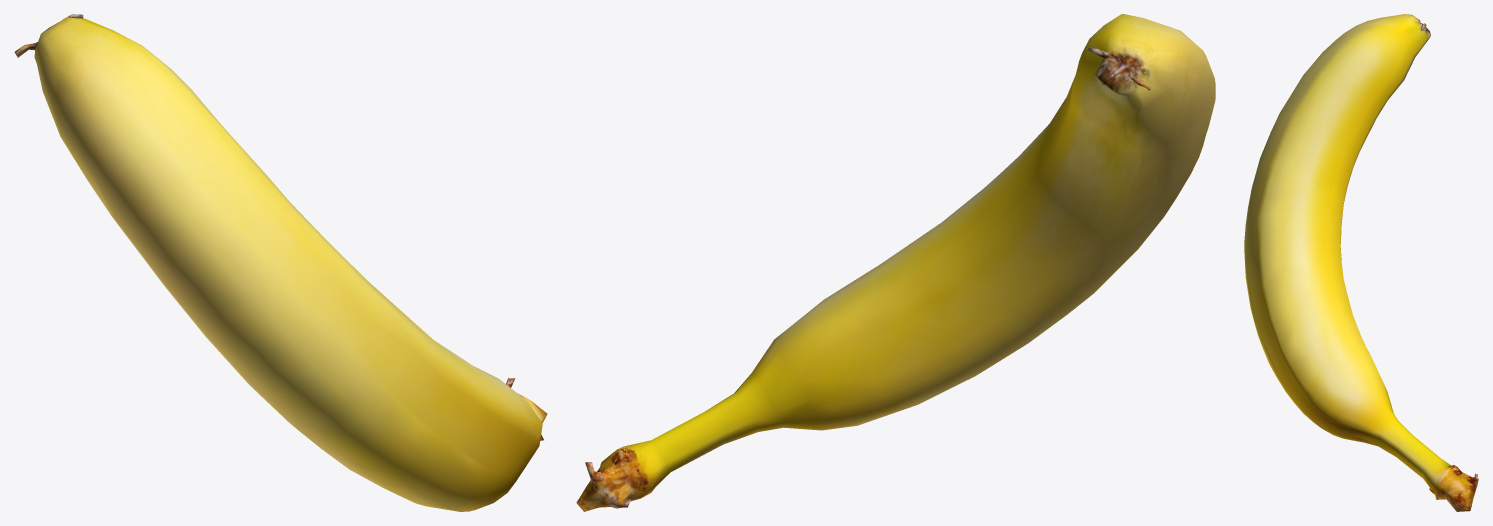
The model's file is banana.glb.
The picture shows the model from 3 angles, left to right: view 1: azimuth 30°, elevation 25°; view 2: azimuth 150°, elevation 25°; view 3: azimuth 270°, elevation 25°; orthographic projection. The views are drawn at different scales.
Parts seen in each view (by area): view 1: tripo_node_eef05691-6750-47c3-a7d9-8d36ec075b95; view 2: tripo_node_eef05691-6750-47c3-a7d9-8d36ec075b95; view 3: tripo_node_eef05691-6750-47c3-a7d9-8d36ec075b95.
Part boxes in pixels (x1,y1,x2,y2): tripo_node_eef05691-6750-47c3-a7d9-8d36ec075b95: [14, 14, 547, 511]; tripo_node_eef05691-6750-47c3-a7d9-8d36ec075b95: [576, 14, 1215, 511]; tripo_node_eef05691-6750-47c3-a7d9-8d36ec075b95: [1244, 14, 1478, 511].
Size of the model in its own units: 0.998 by 0.9902 by 0.6074.
1 material, 1 textured.
